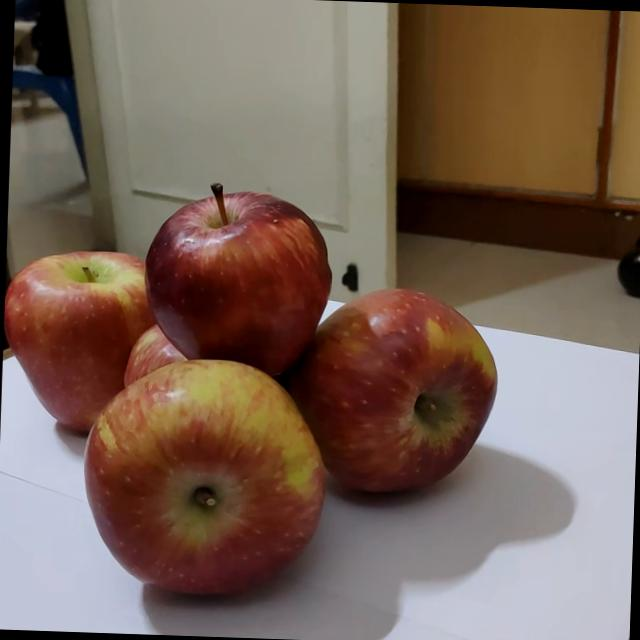apple: (64, 332, 318, 584), (280, 268, 508, 498), (130, 165, 339, 361), (21, 225, 168, 408)
